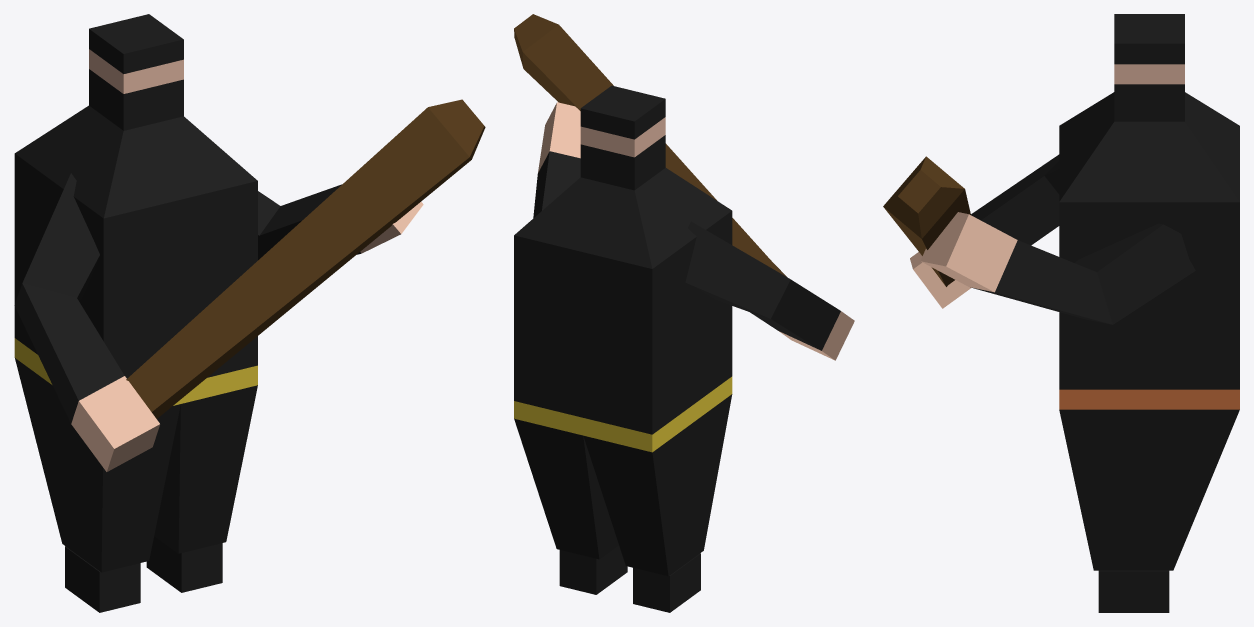
The model's file is Robber.fbx.
3 views of the same model, side by side, from view 1: azimuth 30°, elevation 25°; view 2: azimuth 150°, elevation 25°; view 3: azimuth 270°, elevation 25° (orthographic). The views are drawn at different scales.
Visible parts, largest first — view 1: Robber.003; view 2: Robber.003; view 3: Robber.003.
Boxes of the visible parts, x1,y1,x2,y2 form: Robber.003: (14,14,485,612); Robber.003: (514,14,854,612); Robber.003: (883,14,1239,612).
Bounding box in the file's own units: 1.38 × 1.87 × 1.09.
